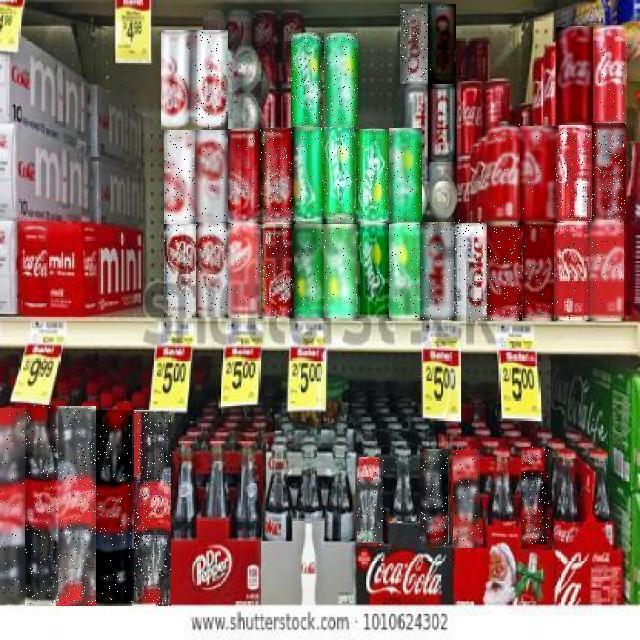Drinks: (56, 406, 96, 606), (134, 411, 171, 607), (96, 411, 132, 607), (25, 406, 58, 606), (0, 408, 26, 604), (556, 27, 593, 125), (485, 124, 521, 224), (554, 223, 591, 320), (556, 124, 592, 222), (454, 221, 488, 323), (521, 127, 557, 223), (487, 223, 522, 321), (162, 30, 196, 130), (593, 25, 627, 124), (592, 123, 626, 222), (420, 223, 454, 321), (591, 220, 625, 318), (195, 30, 228, 130), (164, 224, 198, 318), (260, 129, 294, 223), (324, 33, 358, 127), (356, 129, 390, 223), (324, 225, 358, 319), (356, 224, 390, 318), (196, 223, 229, 317), (228, 224, 261, 318), (291, 33, 324, 127), (292, 127, 325, 221), (389, 129, 422, 223), (389, 225, 422, 319), (195, 130, 228, 222), (164, 130, 196, 224), (228, 129, 260, 223), (260, 224, 292, 318), (324, 128, 356, 222), (294, 224, 326, 318), (523, 222, 554, 318), (522, 448, 550, 548), (421, 450, 449, 548), (454, 450, 482, 548), (358, 458, 386, 546), (400, 5, 428, 85), (429, 5, 457, 85), (429, 84, 457, 162)
